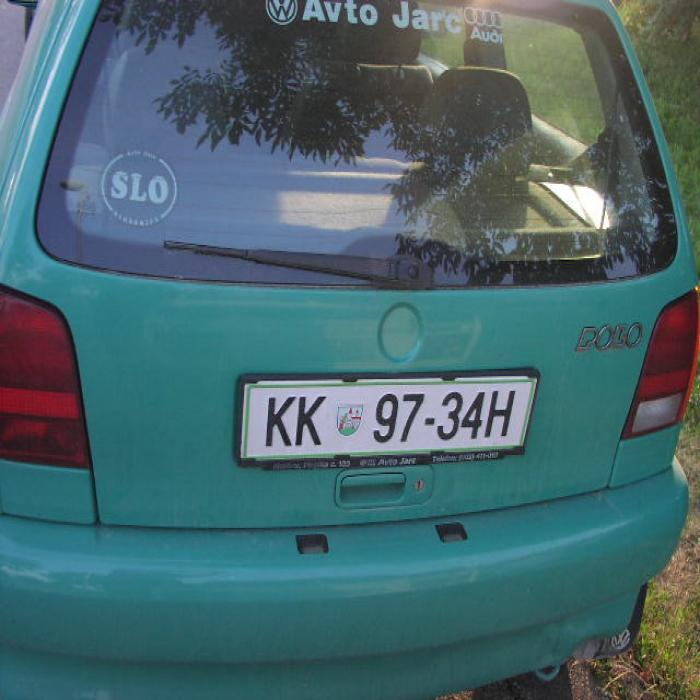number_plate: (248, 385, 518, 443)
